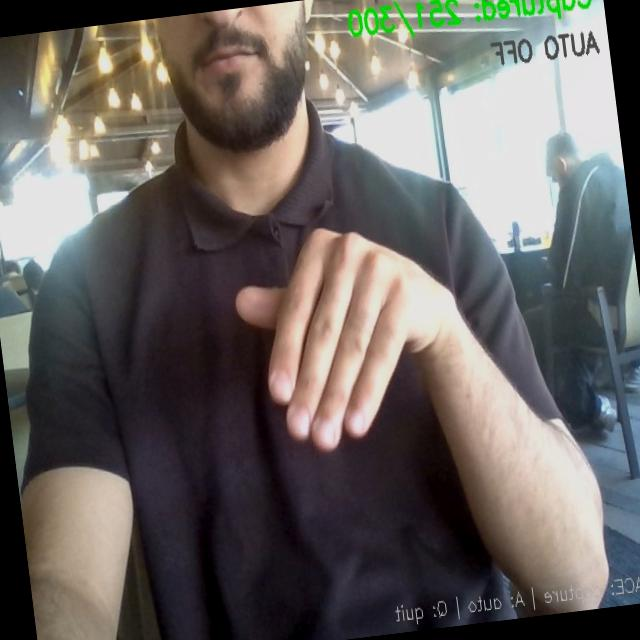Hand: (236, 230, 454, 450)
